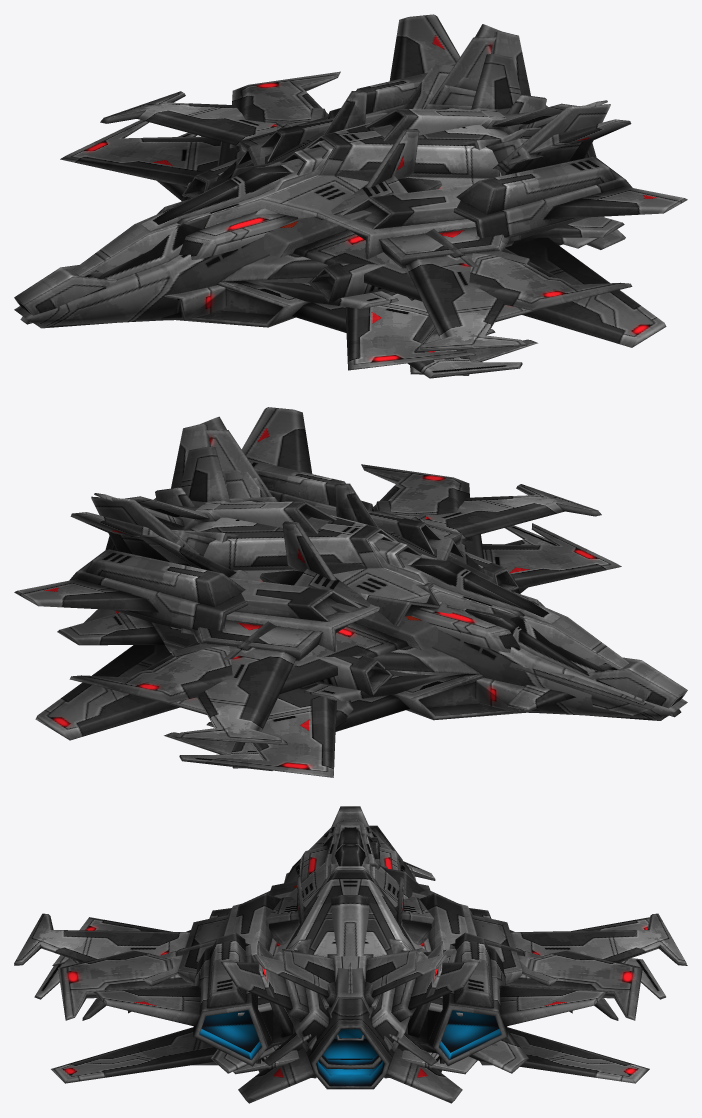
Rendered from NewShips.fbx.
3 renders of one model, top to bottom at view 1: azimuth 30°, elevation 25°; view 2: azimuth 150°, elevation 25°; view 3: azimuth 270°, elevation 25°, orthographic. The views are drawn at different scales.
Parts seen in each view (by area): view 1: jet_fighter_6, jet_fighter_3, jet_fighter_4, jet_fighter_1, jet_fighter_5, jet_fighter_2; view 2: jet_fighter_6, jet_fighter_4, jet_fighter_3, jet_fighter_5, jet_fighter_1, jet_fighter_2; view 3: jet_fighter_4, jet_fighter_6, jet_fighter_3, jet_fighter_1, jet_fighter_5, jet_fighter_2.
Boxes of the visible parts, <box> form: jet_fighter_6: <box>72,54,576,375</box>; jet_fighter_3: <box>14,24,632,334</box>; jet_fighter_4: <box>20,14,687,347</box>; jet_fighter_1: <box>14,31,607,361</box>; jet_fighter_5: <box>60,64,624,370</box>; jet_fighter_2: <box>157,91,598,378</box>; jet_fighter_6: <box>125,446,628,768</box>; jet_fighter_4: <box>14,407,681,740</box>; jet_fighter_3: <box>69,416,687,731</box>; jet_fighter_5: <box>57,471,654,777</box>; jet_fighter_1: <box>94,423,687,754</box>; jet_fighter_2: <box>155,483,556,770</box>; jet_fighter_4: <box>51,932,649,1083</box>; jet_fighter_6: <box>14,819,686,1016</box>; jet_fighter_3: <box>58,828,642,1103</box>; jet_fighter_1: <box>82,806,618,1065</box>; jet_fighter_5: <box>52,825,687,1073</box>; jet_fighter_2: <box>34,876,665,1074</box>.
Size of the model in its own units: 5.86 by 1.55 by 6.26.
